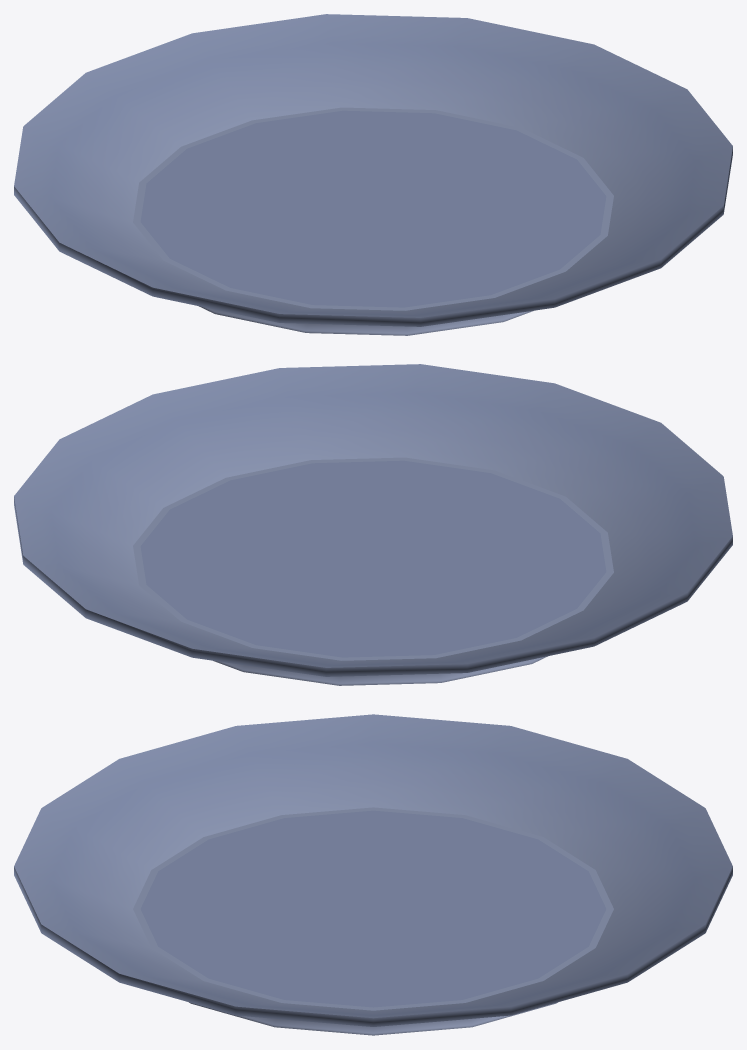
The model's file is Small Plate.fbx.
3 renders of one model, top to bottom at view 1: azimuth 30°, elevation 25°; view 2: azimuth 150°, elevation 25°; view 3: azimuth 270°, elevation 25°, orthographic.
Parts seen in each view (by area): view 1: Small Plate; view 2: Small Plate; view 3: Small Plate.
Boxes of the visible parts, bbox=[...] form: Small Plate: bbox=[14, 14, 732, 335]; Small Plate: bbox=[14, 364, 732, 685]; Small Plate: bbox=[14, 714, 732, 1035].
Size of the model in its own units: 232 by 21.45 by 232.
